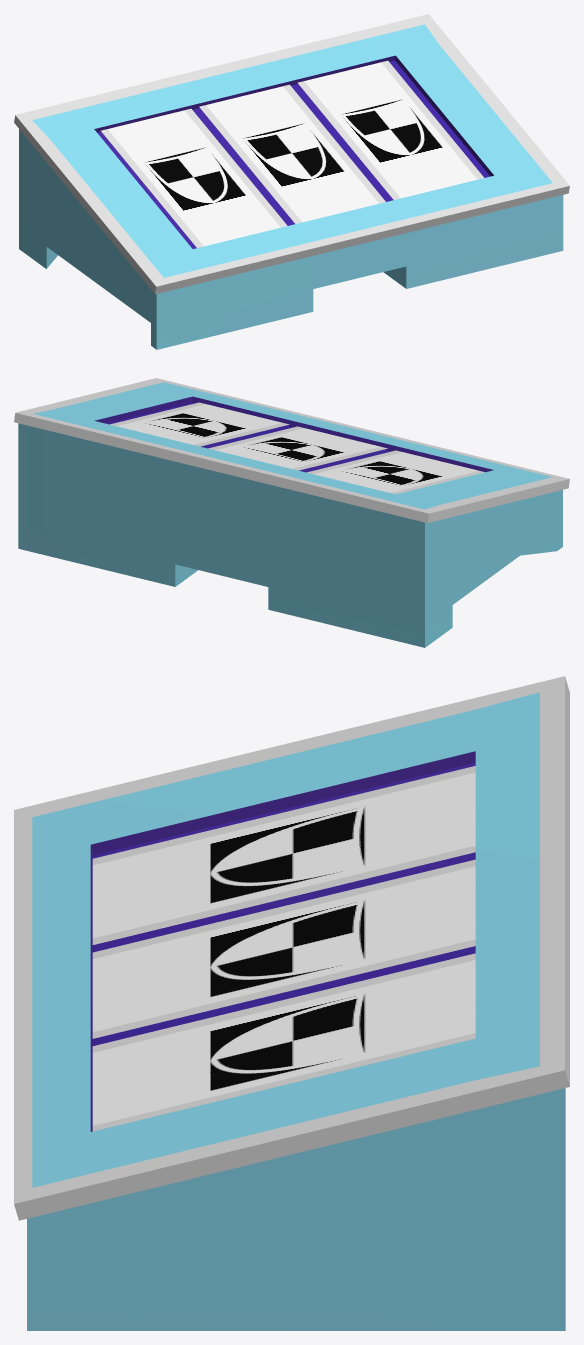
Rendered from SlotMachine.fbx.
The picture shows the model from 3 angles, top to bottom: view 1: azimuth 30°, elevation 25°; view 2: azimuth 150°, elevation 25°; view 3: azimuth 270°, elevation 25°; orthographic projection. The views are drawn at different scales.
Visible parts, largest first — view 1: SlotMachine_MESH; view 2: SlotMachine_MESH; view 3: SlotMachine_MESH.
Part boxes in pixels (x1=…): SlotMachine_MESH: x1=14, y1=14, x2=569, y2=349; SlotMachine_MESH: x1=14, y1=378, x2=569, y2=647; SlotMachine_MESH: x1=14, y1=676, x2=569, y2=1330.
Bounding box in the file's own units: 1.18 × 0.702 × 0.3674.
